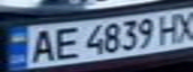3: (121, 18, 142, 52)
4: (81, 21, 109, 56)
8: (103, 20, 124, 54)
9: (136, 16, 160, 48)
A: (24, 26, 60, 64)
E: (48, 25, 81, 61)
H: (154, 11, 184, 45)
X: (172, 8, 193, 43)
